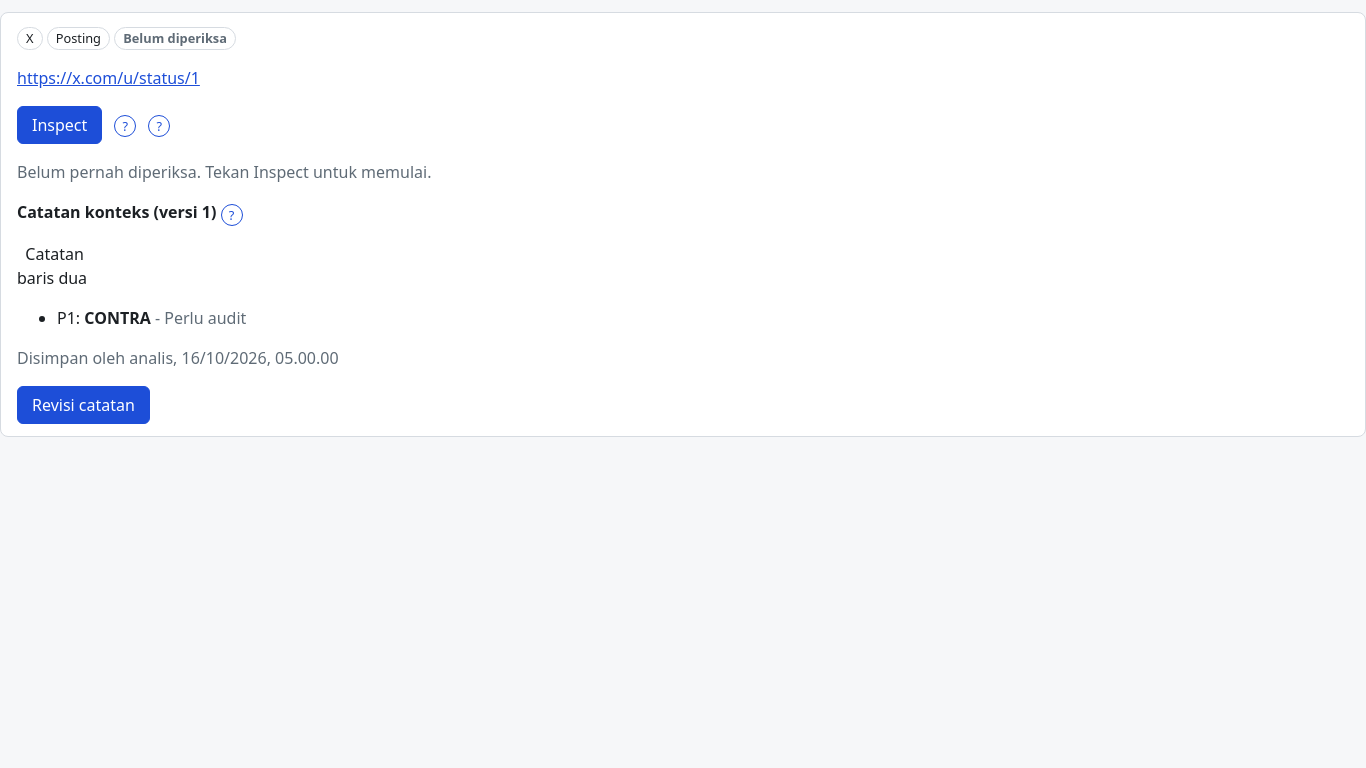
Test: TargetCard: menjalankan inspeksi dan polling › 409 'masih berjalan' menampilkan pesan dan memuat keadaan sebenarnya
What coordinates should you click on to do the following:
click the button "Inspect"
I would click on:
 (60, 125)
Its box is [17,106,102,144].
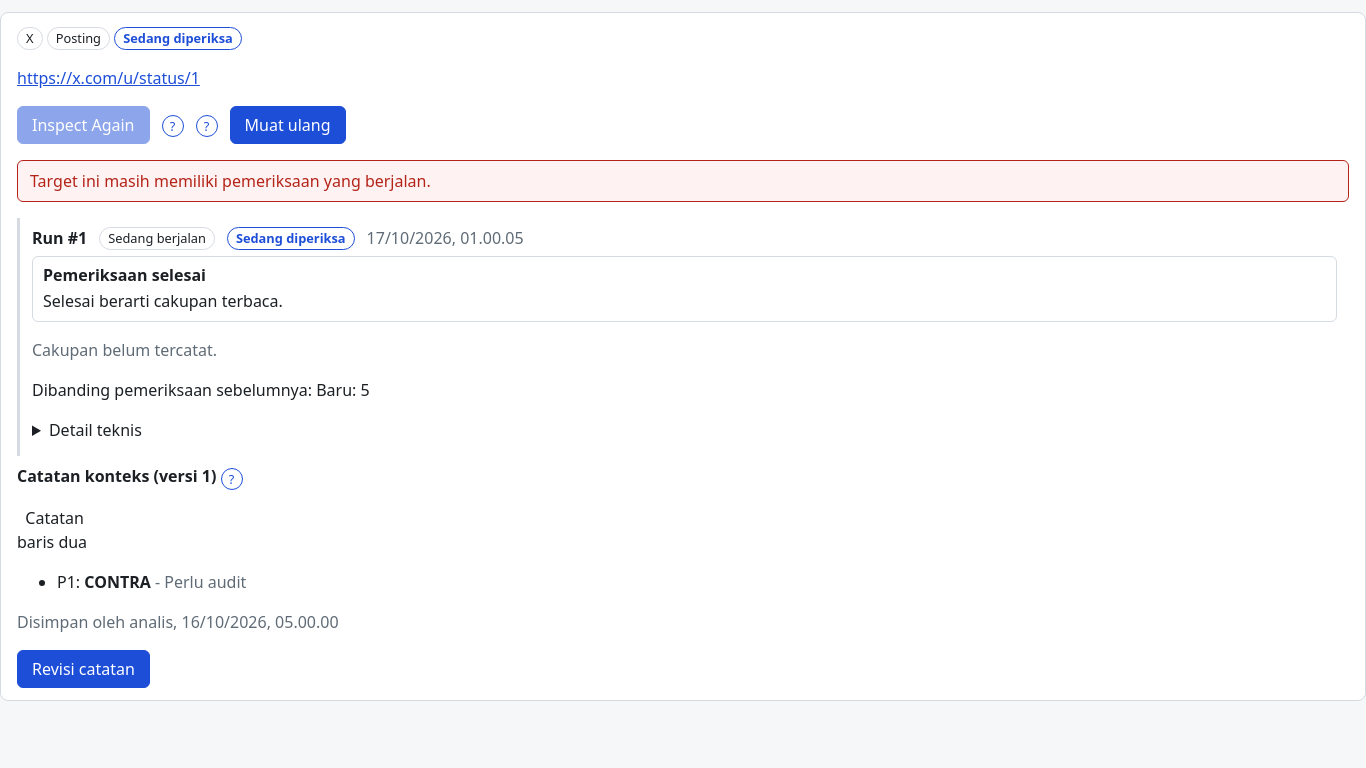
Now the message shows "masih memiliki pemeriksaan", box [30,170,431,192]
Now the button "Inspect Again" is disabled, box [17,106,150,144]
